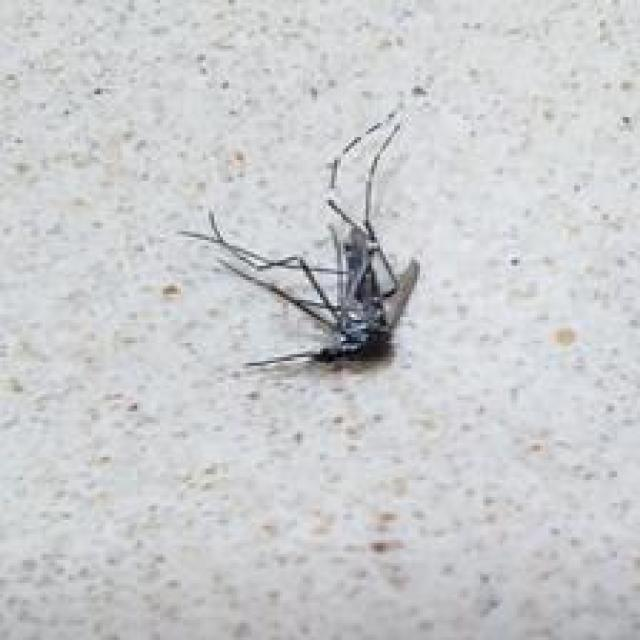Aedes albopictus: (177, 104, 423, 370)
